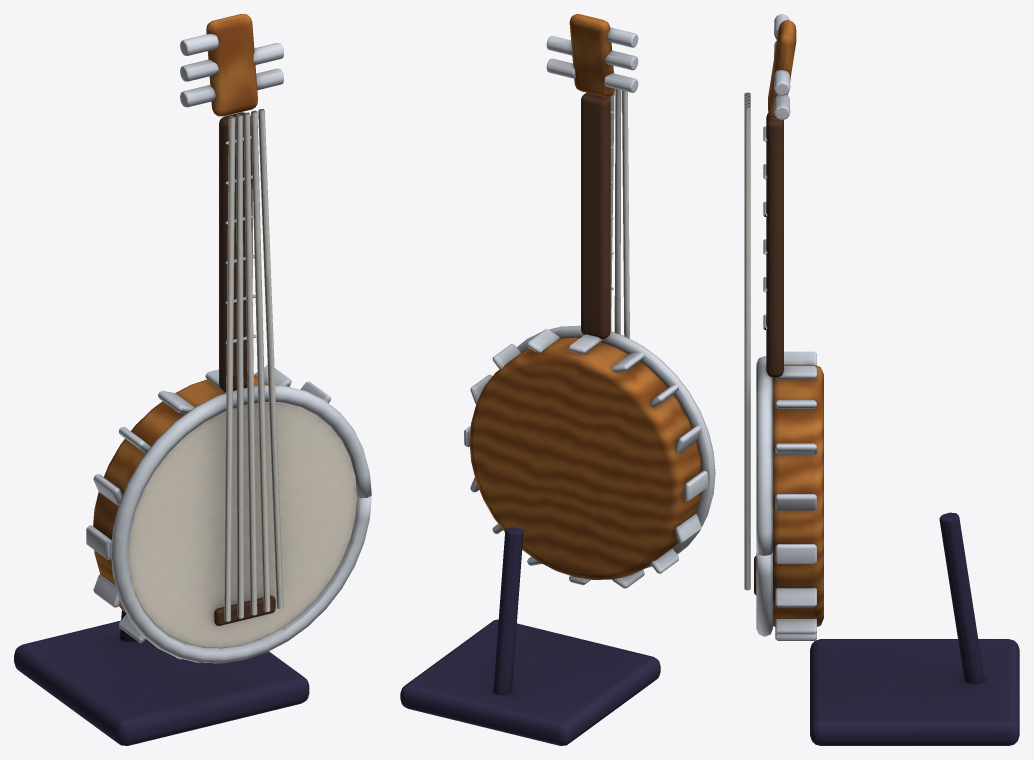
Rendered from Banjo.fbx.
3 views of the same model, side by side, from view 1: azimuth 30°, elevation 25°; view 2: azimuth 150°, elevation 25°; view 3: azimuth 270°, elevation 25° (orthographic). The views are drawn at different scales.
Parts seen in each view (by area): view 1: Banjo_Body, String_0_Mesh.003, String_2_Mesh.003, String_3_Mesh.003, String_4_Mesh.002, String_1_Mesh.003; view 2: Banjo_Body, String_0_Mesh.003, String_1_Mesh.003, String_2_Mesh.003; view 3: Banjo_Body, String_4_Mesh.002.
Part boxes in pixels (box(x1,y1,x2,y2)): Banjo_Body: box(14, 14, 371, 745); String_0_Mesh.003: box(224, 116, 235, 621); String_2_Mesh.003: box(243, 112, 257, 615); String_3_Mesh.003: box(251, 110, 270, 611); String_4_Mesh.002: box(258, 109, 283, 608); String_1_Mesh.003: box(236, 114, 243, 618); Banjo_Body: box(400, 14, 715, 745); String_0_Mesh.003: box(622, 90, 629, 338); String_1_Mesh.003: box(614, 89, 621, 334); String_2_Mesh.003: box(608, 92, 614, 330); Banjo_Body: box(754, 14, 1019, 745); String_4_Mesh.002: box(744, 106, 750, 590).
Bounding box in the file's own units: 0.404 × 1.07 × 0.394.
